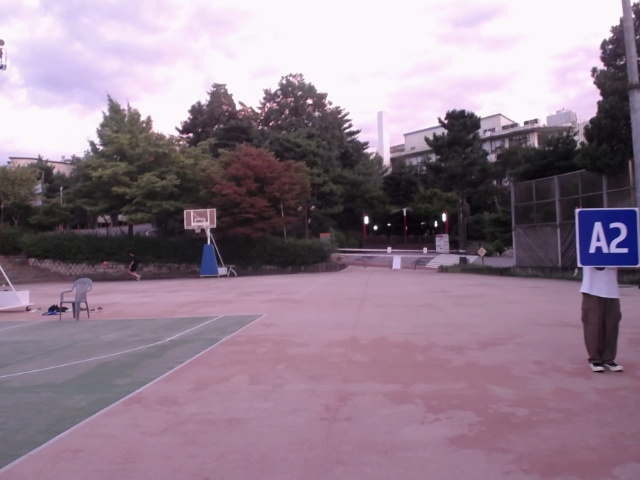delivery_a2: (576, 209, 639, 267)
